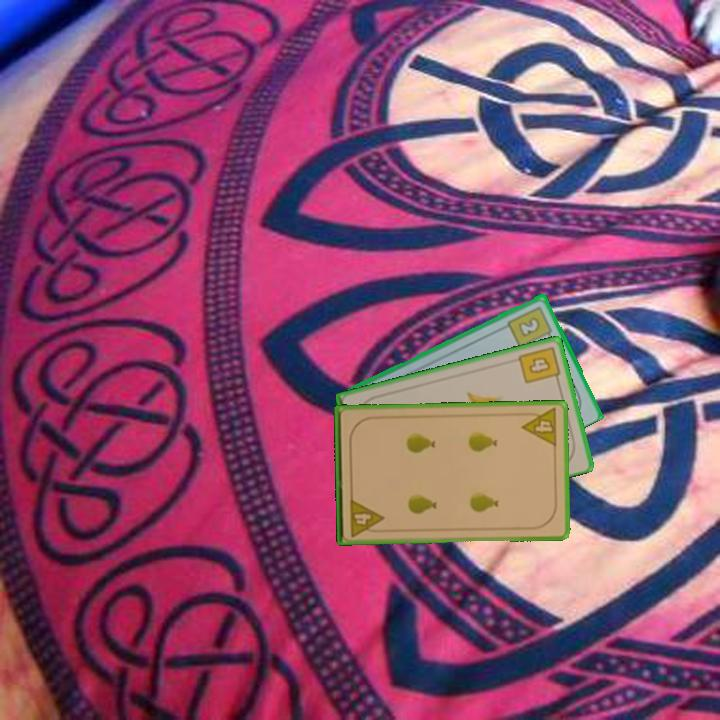2b: (504, 302, 555, 350)
4b: (515, 342, 563, 386)
4p: (519, 405, 560, 449), (346, 495, 386, 539)
